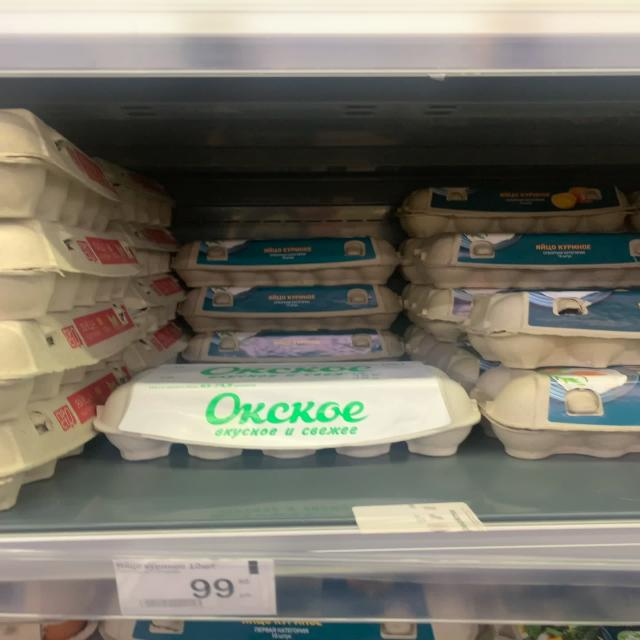egg box: (122, 355, 470, 454), (176, 233, 407, 279), (407, 177, 621, 226), (400, 238, 633, 282), (194, 324, 402, 364), (188, 280, 414, 316)
